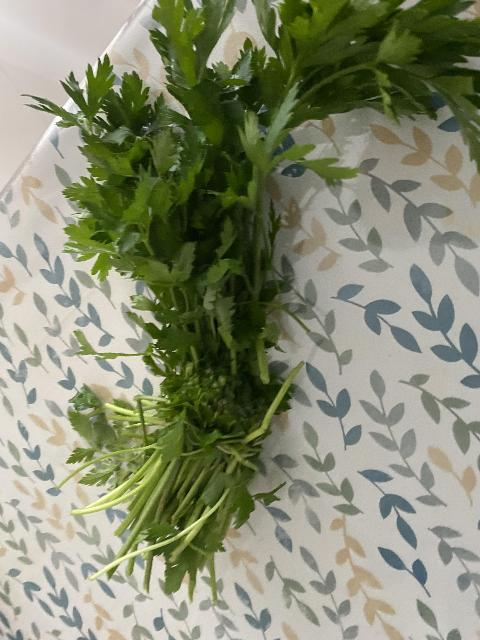Organik: (30, 2, 480, 600)
